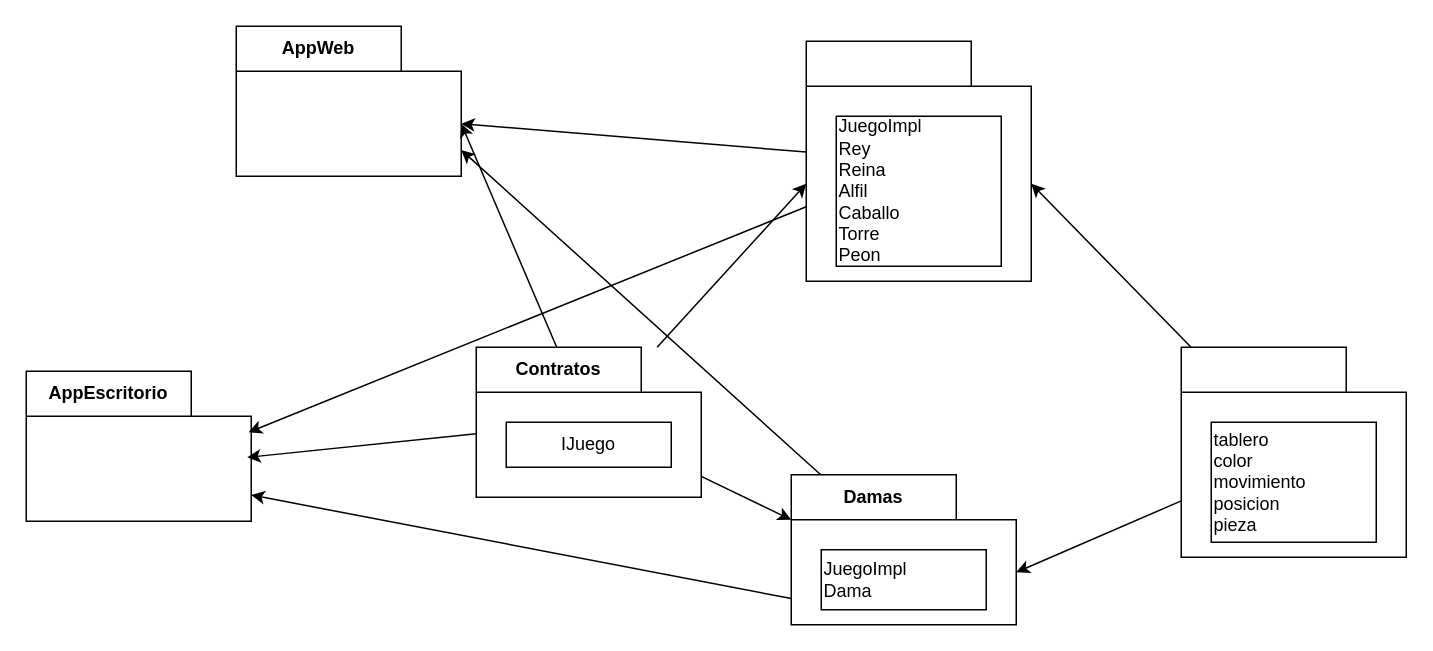
The diagram is 1433 pixels wide and 651 high, and some of its shapes have lost their labels. The centre of each missing label's shape, as x and y in pixels:
Ajedrez: pixel 918 160
Common: pixel 1293 451
